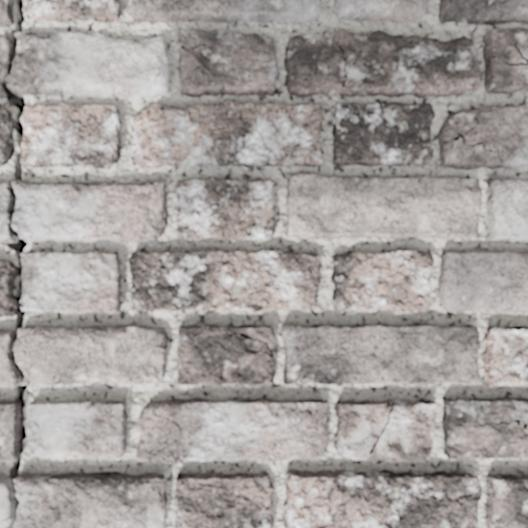brick: (284, 29, 482, 97), (132, 101, 322, 166), (286, 175, 481, 238), (281, 324, 479, 384), (137, 398, 327, 460), (129, 251, 320, 311), (284, 470, 481, 527), (178, 29, 277, 96), (21, 103, 120, 168), (332, 103, 434, 165), (332, 249, 433, 311), (334, 400, 436, 460), (175, 178, 274, 239), (21, 252, 119, 312), (178, 325, 274, 385), (27, 400, 126, 458), (438, 105, 527, 168), (175, 472, 272, 527), (438, 252, 527, 311), (443, 397, 527, 459), (131, 0, 319, 22), (483, 28, 527, 93), (482, 327, 527, 386), (486, 179, 527, 242), (485, 474, 527, 527), (439, 0, 527, 24), (333, 0, 427, 21), (27, 0, 119, 21), (0, 402, 20, 461), (0, 261, 17, 316), (0, 109, 13, 165), (0, 0, 12, 26)
broken_brick: (7, 30, 170, 97), (13, 180, 168, 243), (15, 324, 168, 386), (15, 471, 168, 527), (0, 330, 15, 387), (0, 180, 11, 242), (0, 475, 9, 527), (0, 32, 8, 80), (0, 85, 5, 98)
crack: (0, 0, 28, 527), (369, 401, 421, 454), (215, 329, 273, 357), (472, 414, 527, 430), (504, 39, 527, 66), (162, 451, 189, 463), (180, 42, 209, 50), (299, 106, 322, 113)
